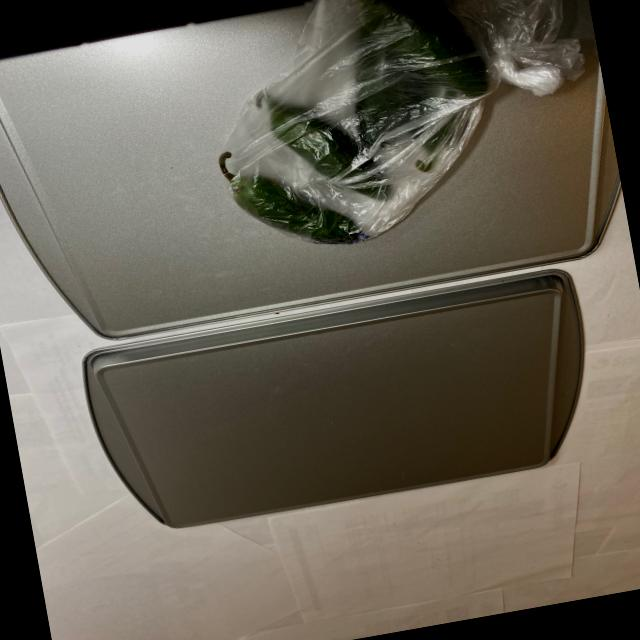chilli: (193, 0, 600, 264)
